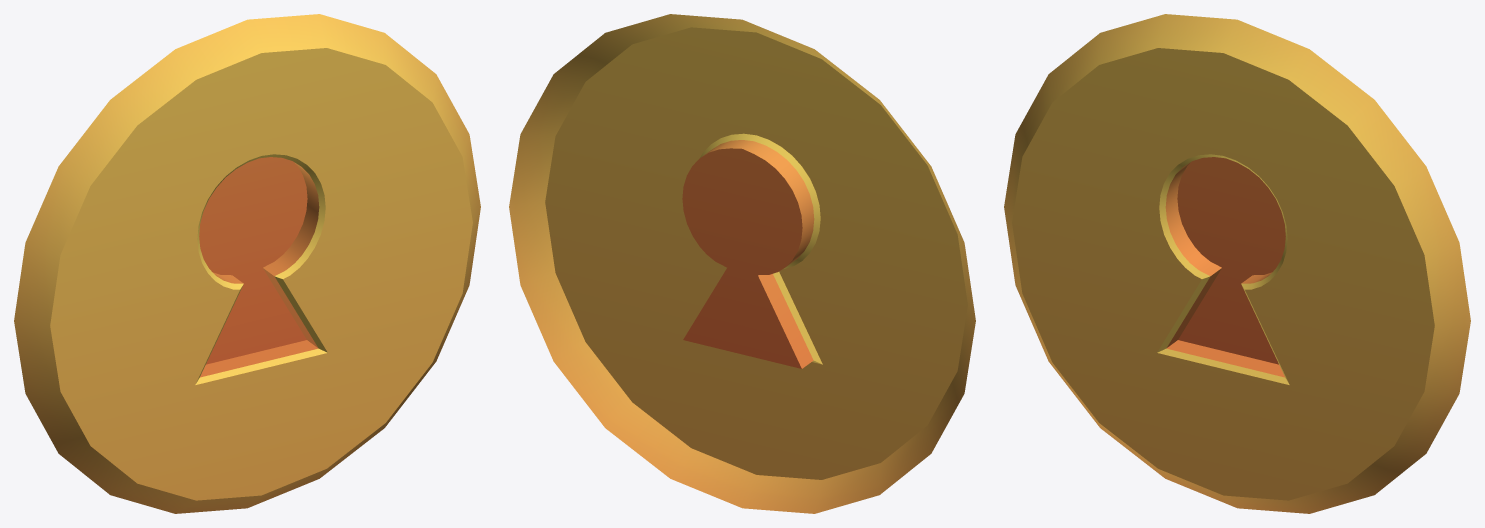
The model's file is lock_button.fbx.
3 renders of one model, left to right at view 1: azimuth 30°, elevation 25°; view 2: azimuth 150°, elevation 25°; view 3: azimuth 330°, elevation 25°, orthographic.
Parts seen in each view (by area): view 1: lock_button; view 2: lock_button; view 3: lock_button.
Part boxes in pixels (x1=…): lock_button: x1=14, y1=14, x2=480, y2=513; lock_button: x1=509, y1=14, x2=975, y2=513; lock_button: x1=1004, y1=14, x2=1470, y2=513.
Size of the model in its own units: 56.17 by 56.17 by 2.93.
